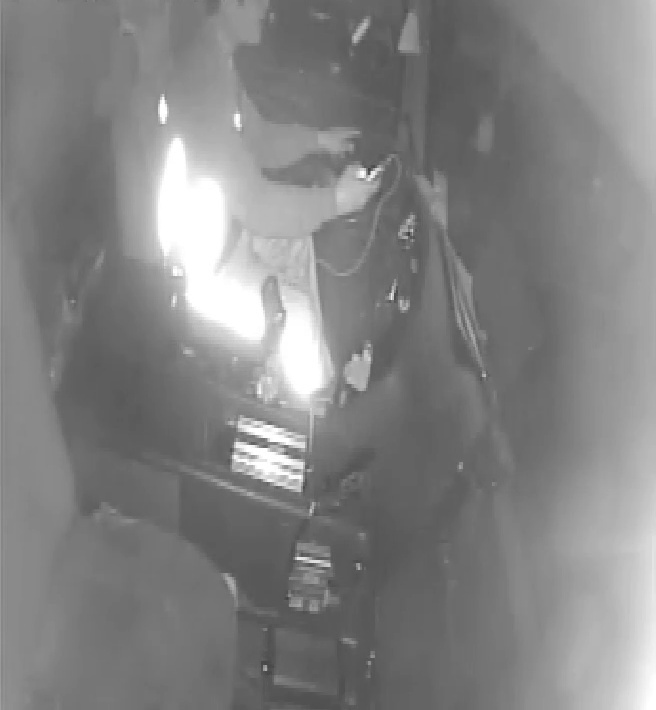cellphone: (353, 159, 389, 189)
